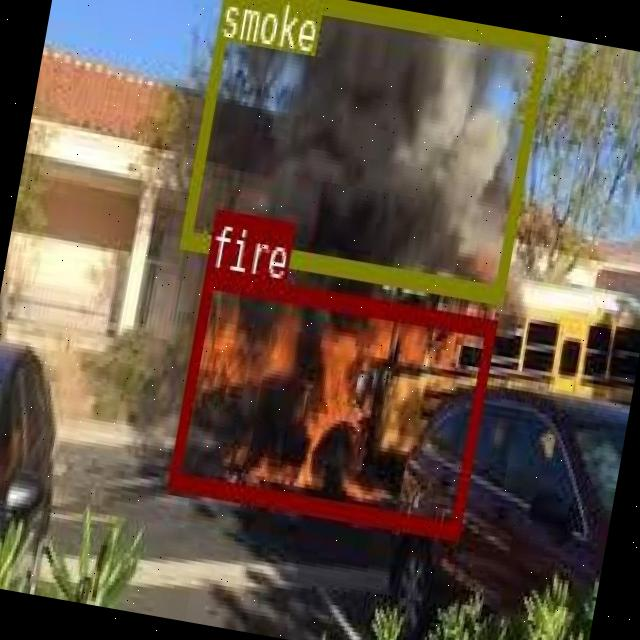fire: (167, 268, 494, 537)
smoke: (179, 0, 545, 297)
